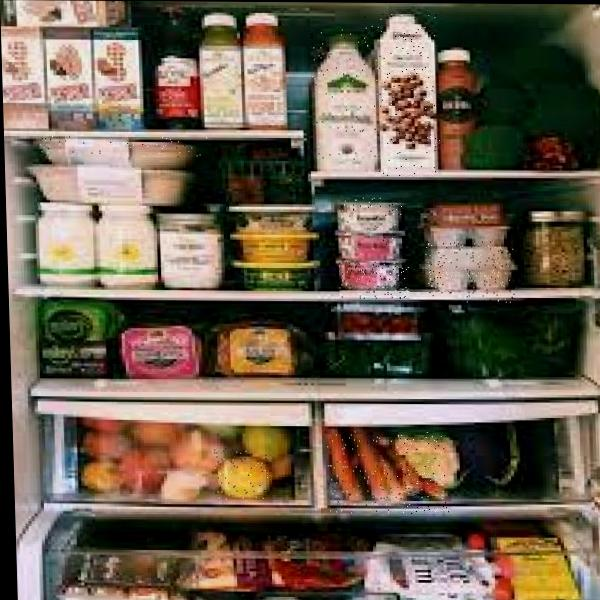carrots: (325, 431, 449, 514)
cheese: (339, 261, 410, 299), (338, 197, 405, 233), (339, 233, 406, 259)
eggs: (425, 241, 515, 303)
lemon: (214, 448, 270, 500)
meat: (30, 156, 204, 206), (39, 136, 209, 171)
milk: (364, 14, 441, 177), (311, 29, 387, 164)
